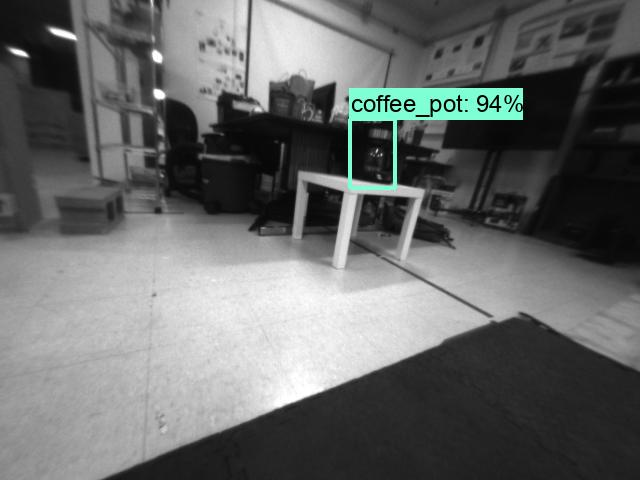coffee_pot: (351, 121, 393, 185)
